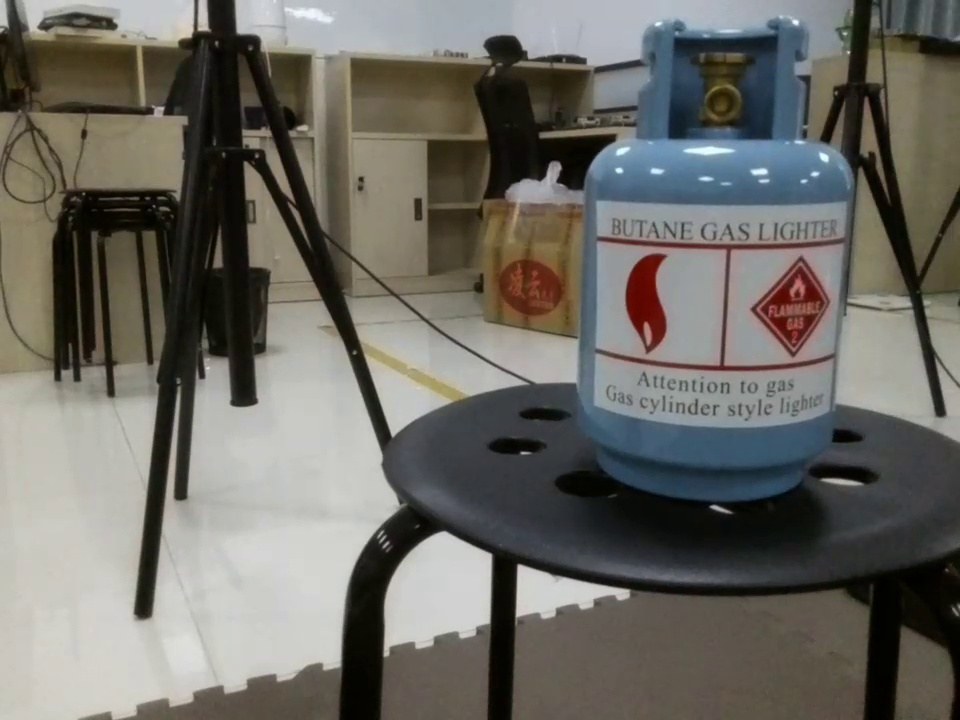gas tank: (561, 9, 872, 509)
